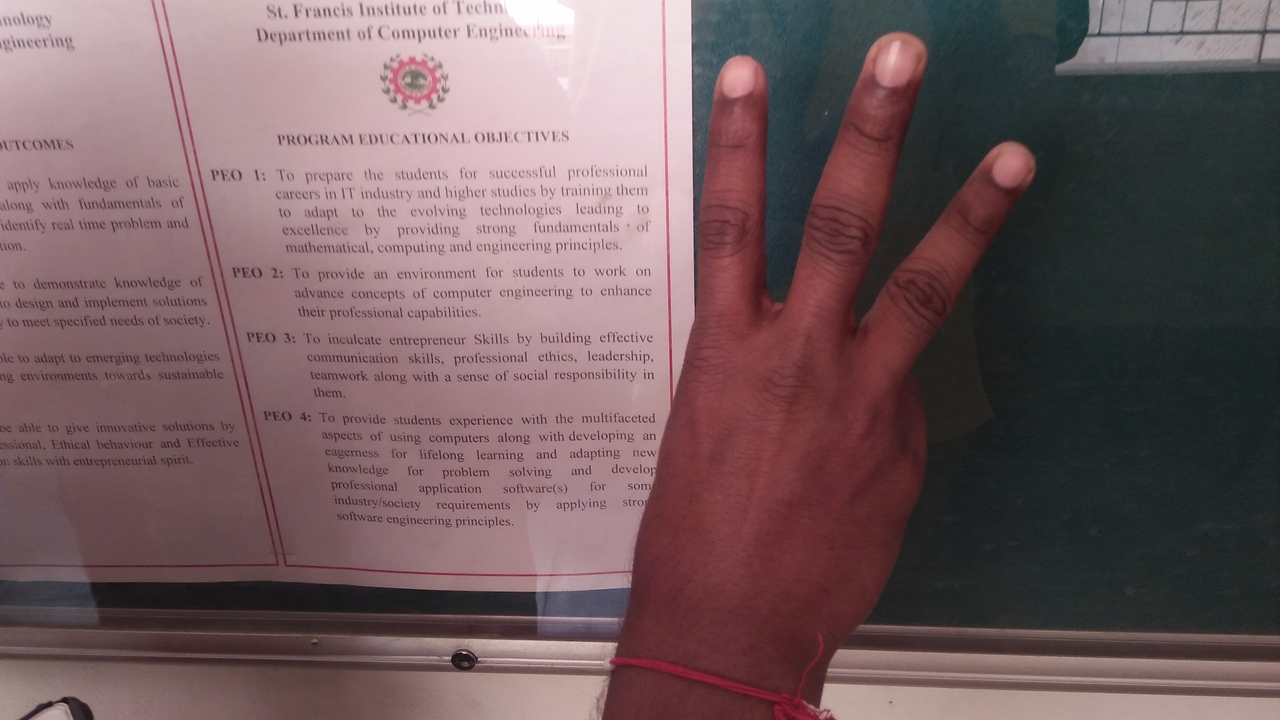fingertip: (974, 130, 1048, 196), (860, 30, 934, 94), (710, 50, 772, 110)
